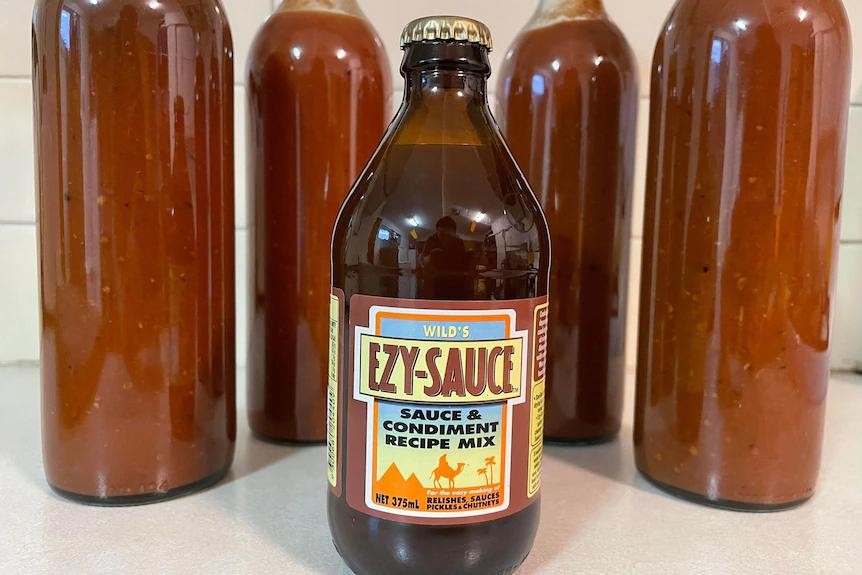glass: (327, 12, 545, 575), (22, 0, 245, 509), (645, 0, 848, 500), (235, 0, 401, 443), (503, 0, 632, 440)
